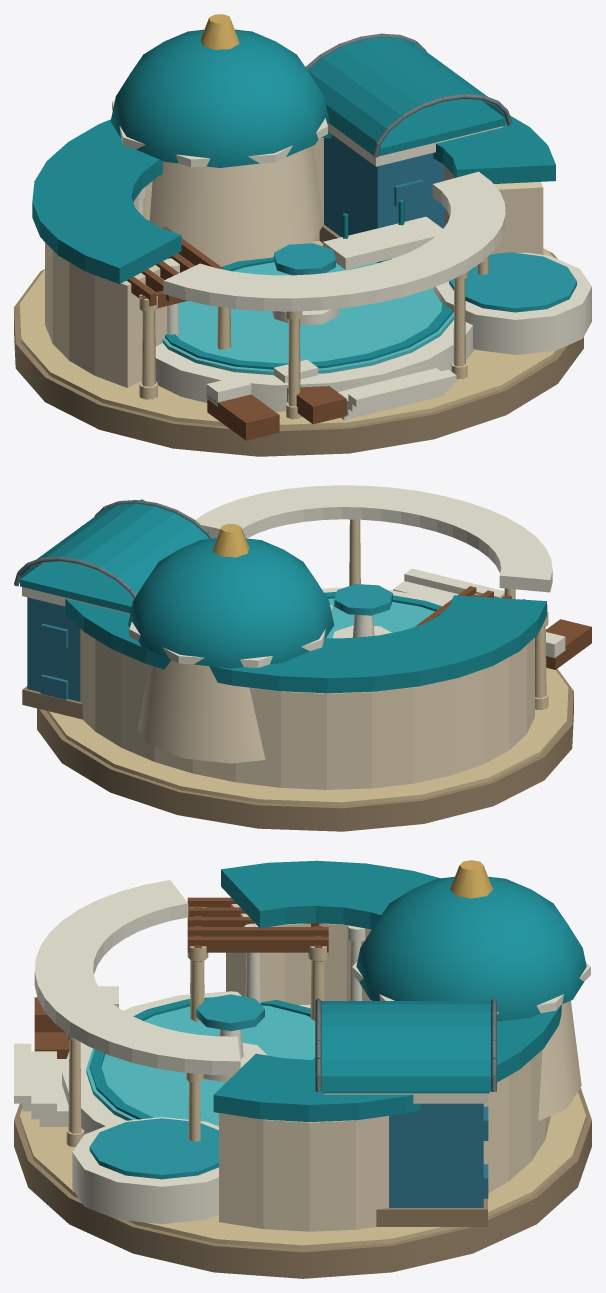
The model's file is recovery-center-lv5.glb.
3 renders of one model, top to bottom at view 1: azimuth 30°, elevation 25°; view 2: azimuth 150°, elevation 25°; view 3: azimuth 270°, elevation 25°, orthographic. The views are drawn at different scales.
Parts seen in each view (by area): view 1: recovery_dome_aqua, crescent_roof_aqua, pool_canopy_white, foundation_stoneDark, recovery_pavilion_cream, crescent_bathhouse_cream, water_pool, foundation_sand, rehabilitation_roof_aqua, rehabilitation_hall_glass, pool_terrace_white, raised_pool_white (+17 smaller); view 2: crescent_bathhouse_cream, recovery_dome_aqua, crescent_roof_aqua, foundation_stoneDark, pool_canopy_white, foundation_sand, recovery_pavilion_cream, rehabilitation_roof_aqua, rehabilitation_hall_glass, rehabilitation_hall_roof_aqua, body_stone, pool_steps_white (+11 smaller); view 3: crescent_bathhouse_cream, recovery_dome_aqua, crescent_roof_aqua, foundation_stoneDark, pool_canopy_white, rehabilitation_roof_aqua, foundation_sand, rehabilitation_hall_glass, water_pool, raised_pool_white, side_water_water, recovery_pergola_wood (+14 smaller).
Part boxes in pixels (<box>): recovery_dome_aqua: <box>110,29,329,167</box>; crescent_roof_aqua: <box>32,115,555,283</box>; pool_canopy_white: <box>163,171,505,311</box>; foundation_stoneDark: <box>14,251,583,456</box>; recovery_pavilion_cream: <box>149,146,323,266</box>; crescent_bathhouse_cream: <box>45,138,543,387</box>; water_pool: <box>162,262,453,375</box>; foundation_sand: <box>19,241,558,428</box>; rehabilitation_roof_aqua: <box>308,37,505,154</box>; rehabilitation_hall_glass: <box>324,134,444,237</box>; pool_terrace_white: <box>155,258,474,411</box>; raised_pool_white: <box>434,252,591,354</box>; crescent_bathhouse_cream: <box>80,628,534,789</box>; recovery_dome_aqua: <box>128,538,333,668</box>; crescent_roof_aqua: <box>64,499,546,693</box>; foundation_stoneDark: <box>37,669,573,831</box>; pool_canopy_white: <box>195,485,552,592</box>; foundation_sand: <box>46,668,568,805</box>; recovery_pavilion_cream: <box>138,660,265,763</box>; rehabilitation_roof_aqua: <box>20,503,208,594</box>; rehabilitation_hall_glass: <box>27,597,80,701</box>; rehabilitation_hall_roof_aqua: <box>20,561,133,613</box>; body_stone: <box>349,519,548,709</box>; pool_steps_white: <box>393,568,504,601</box>; crescent_bathhouse_cream: <box>219,897,550,1231</box>; recovery_dome_aqua: <box>356,876,586,1021</box>; crescent_roof_aqua: <box>213,860,561,1121</box>; foundation_stoneDark: <box>14,1087,591,1278</box>; pool_canopy_white: <box>34,880,240,1075</box>; rehabilitation_roof_aqua: <box>321,1001,490,1091</box>; foundation_sand: <box>19,991,586,1249</box>; rehabilitation_hall_glass: <box>389,1103,483,1207</box>; water_pool: <box>86,1005,315,1126</box>; raised_pool_white: <box>72,1117,218,1224</box>; side_water_water: <box>89,1118,218,1179</box>; recovery_pergola_wood: <box>187,897,328,961</box>.
Bounding box in the file's own units: 1 × 0.4959 × 0.9231.
